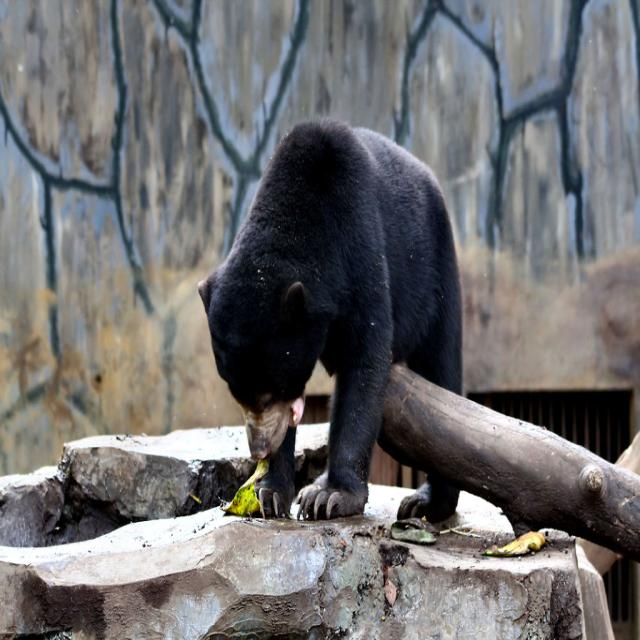Buffalo: (195, 115, 464, 527)
